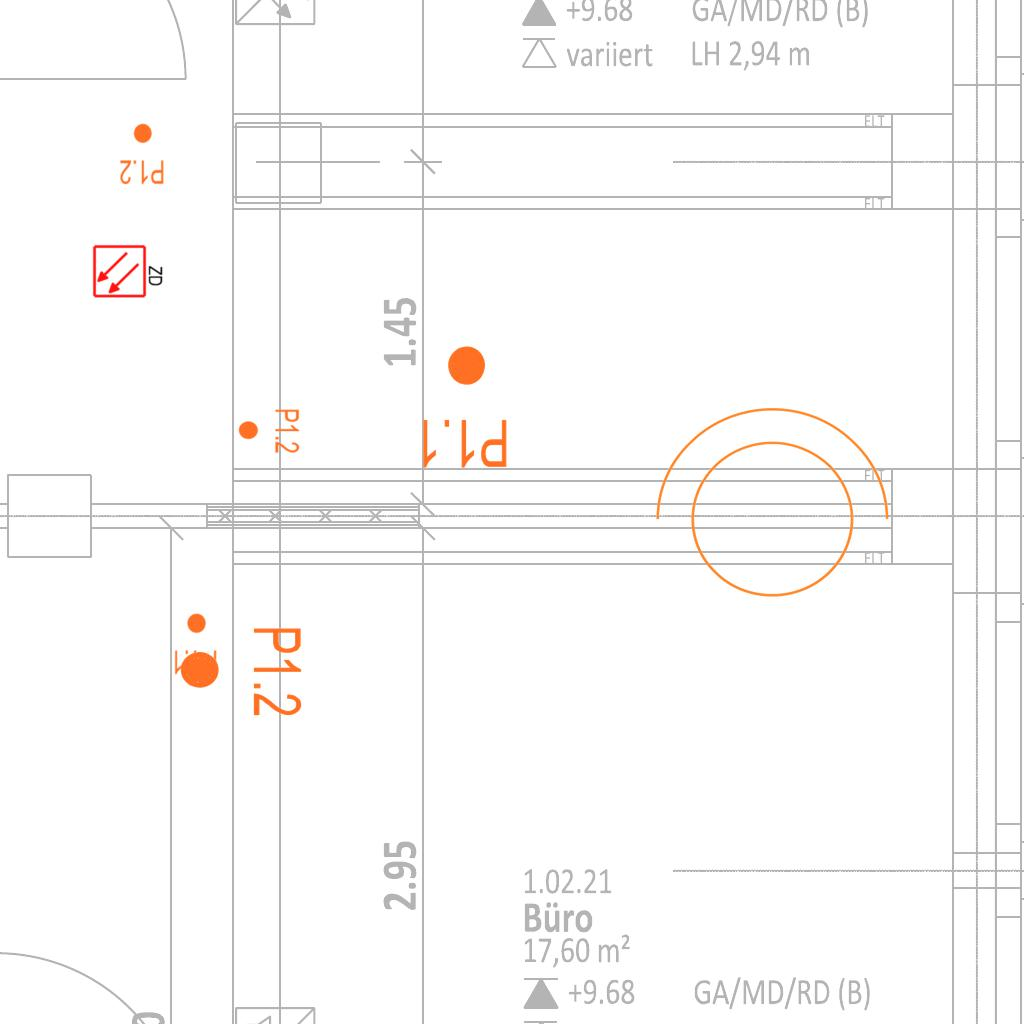Downlight_LED_Einbauleuchten_Flur: (417, 343, 510, 471), (177, 625, 305, 718), (237, 408, 301, 454), (172, 612, 218, 676), (119, 122, 165, 186)
Scheinwerfer_fuer_Alarmbeleuchtung: (634, 397, 898, 622)
ZD_Melder_in_Zwischendecke_mit_Revisionsoeffnung_mind_40_x_40_cm: (92, 242, 166, 299)
